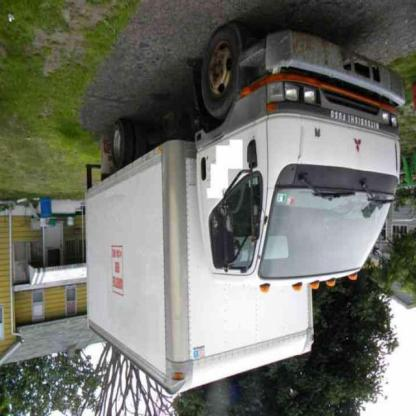truck: (86, 31, 409, 395)
